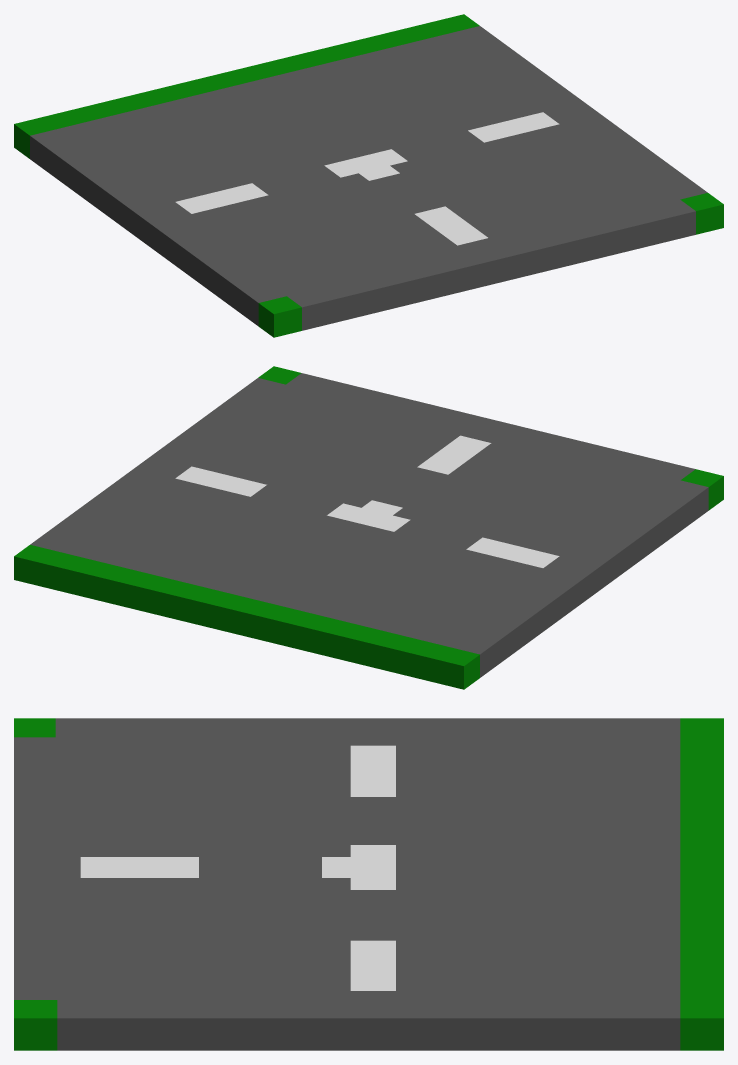
The model's file is RoadPrefabTCrossing.fbx.
3 renders of one model, top to bottom at view 1: azimuth 30°, elevation 25°; view 2: azimuth 150°, elevation 25°; view 3: azimuth 270°, elevation 25°, orthographic. The views are drawn at different scales.
Visible parts, largest first — view 1: pCube2; view 2: pCube2; view 3: pCube2.
Boxes of the visible parts, left/top/right/bottom form: pCube2: left=14, top=14, right=723, bottom=337; pCube2: left=14, top=366, right=723, bottom=689; pCube2: left=14, top=718, right=723, bottom=1050.
Size of the model in its own units: 20 by 1 by 20.
